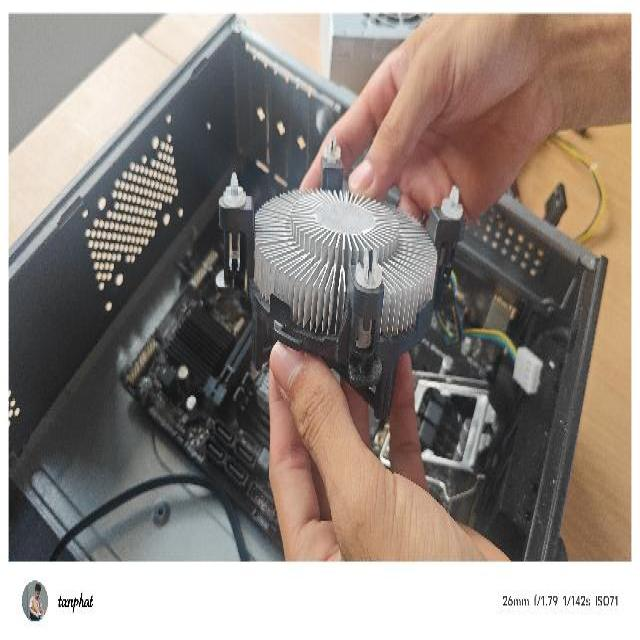CPU_Fan: (212, 122, 470, 425)
